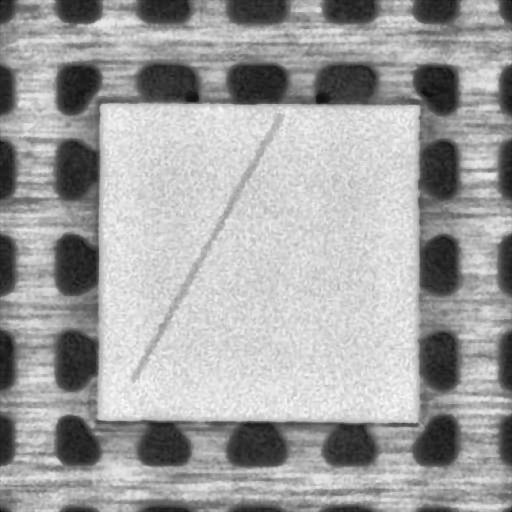DIE_CRACK: (131, 115, 278, 381)
